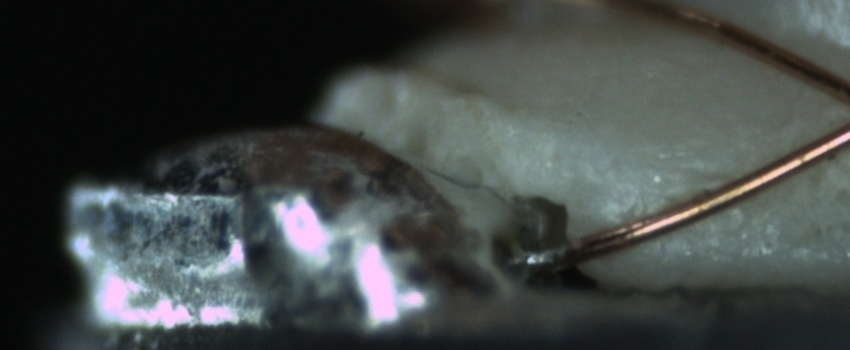CL: (834, 74, 850, 146)
